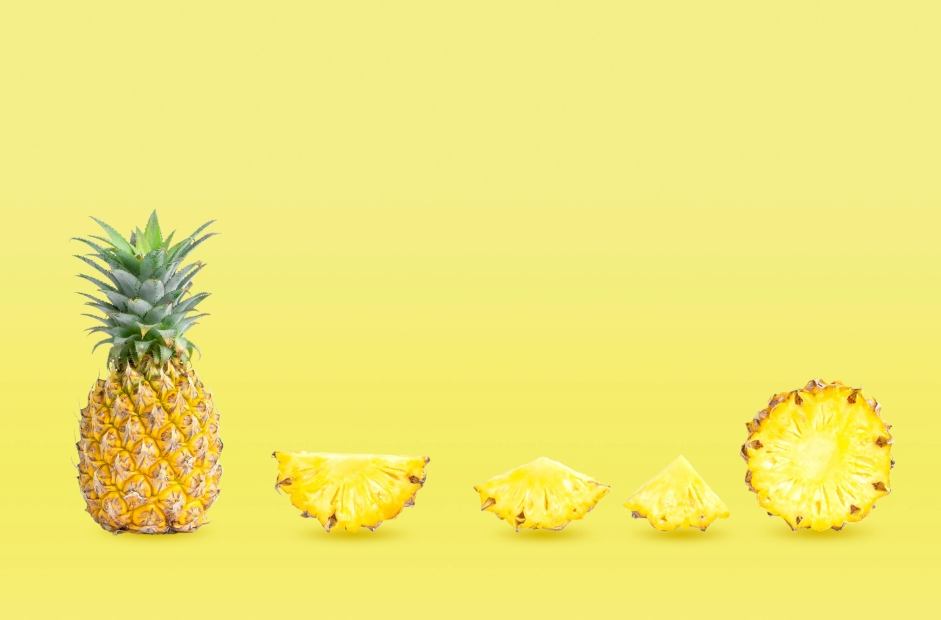pineapple: (263, 440, 443, 533)
